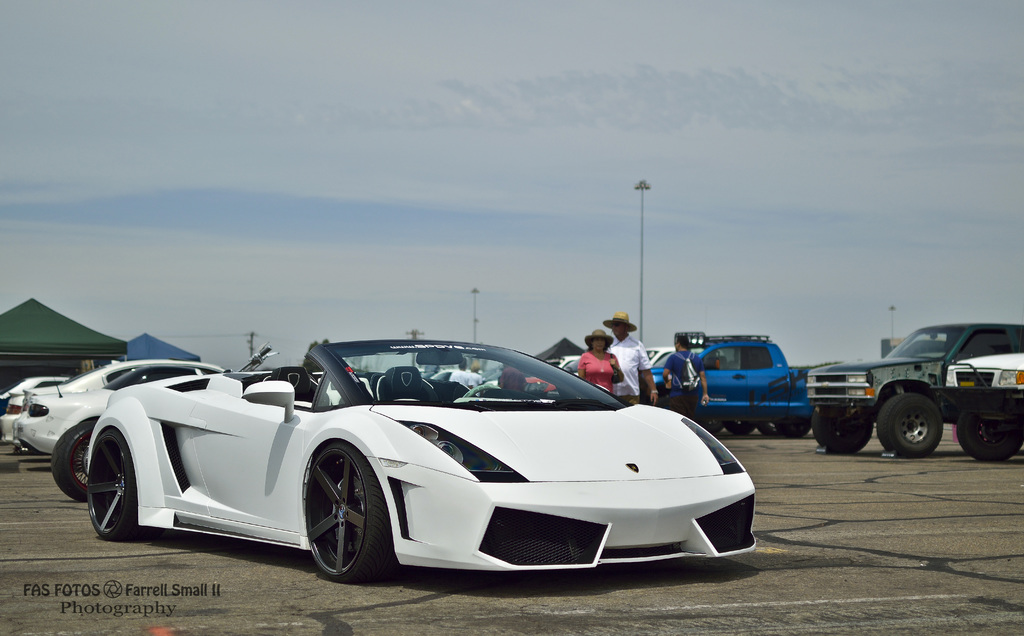Car: (81, 337, 757, 594), (8, 350, 232, 462)
